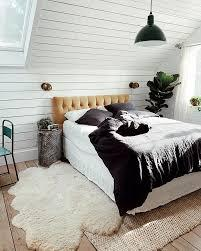bed: (60, 90, 201, 215)
chair: (0, 119, 18, 190)
light: (132, 0, 171, 51)
table: (37, 124, 60, 166)
